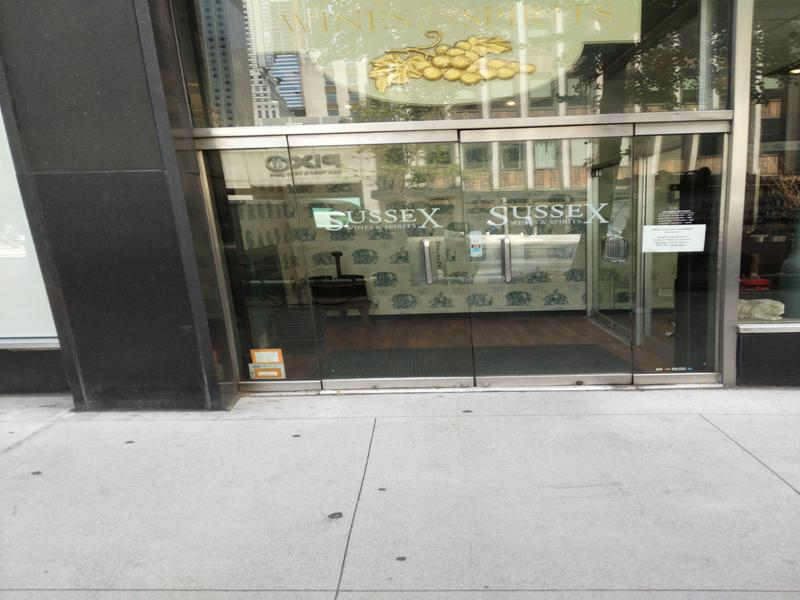double_door: (281, 135, 643, 390)
